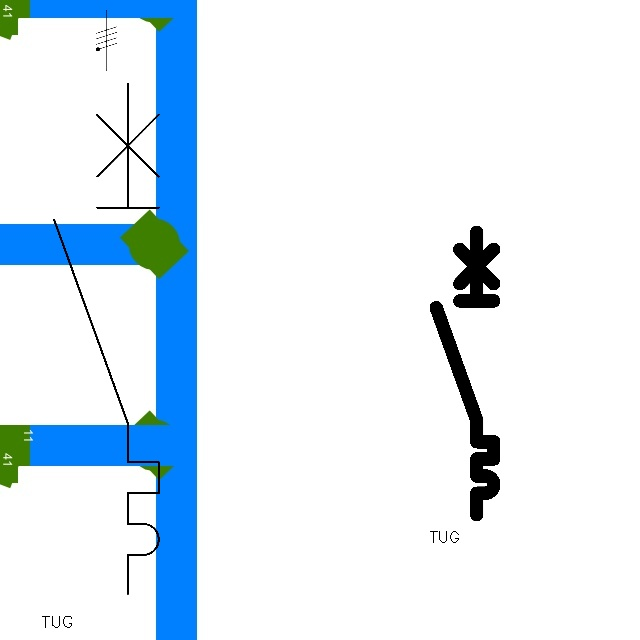interruptor_termomagnetico: (41, 70, 172, 606), (429, 225, 501, 522)
